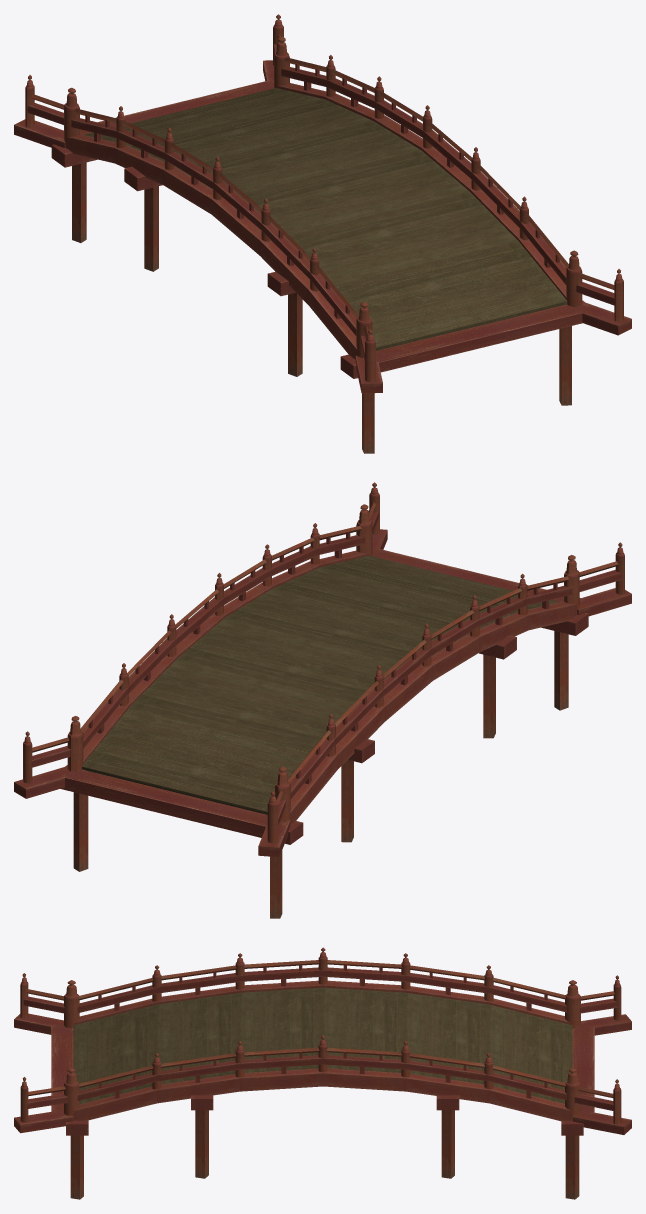
File: jn_qiao01.FBX
3 views of the same model, one above another, from view 1: azimuth 30°, elevation 25°; view 2: azimuth 150°, elevation 25°; view 3: azimuth 270°, elevation 25° (orthographic). The views are drawn at different scales.
Visible parts, largest first — view 1: jn_qiao01; view 2: jn_qiao01; view 3: jn_qiao01.
Part boxes in pixels (x1,y1,x2,y2): jn_qiao01: (14, 14, 631, 453); jn_qiao01: (14, 482, 631, 918); jn_qiao01: (14, 947, 631, 1199).
Size of the model in its own units: 1333 by 892 by 3038.
